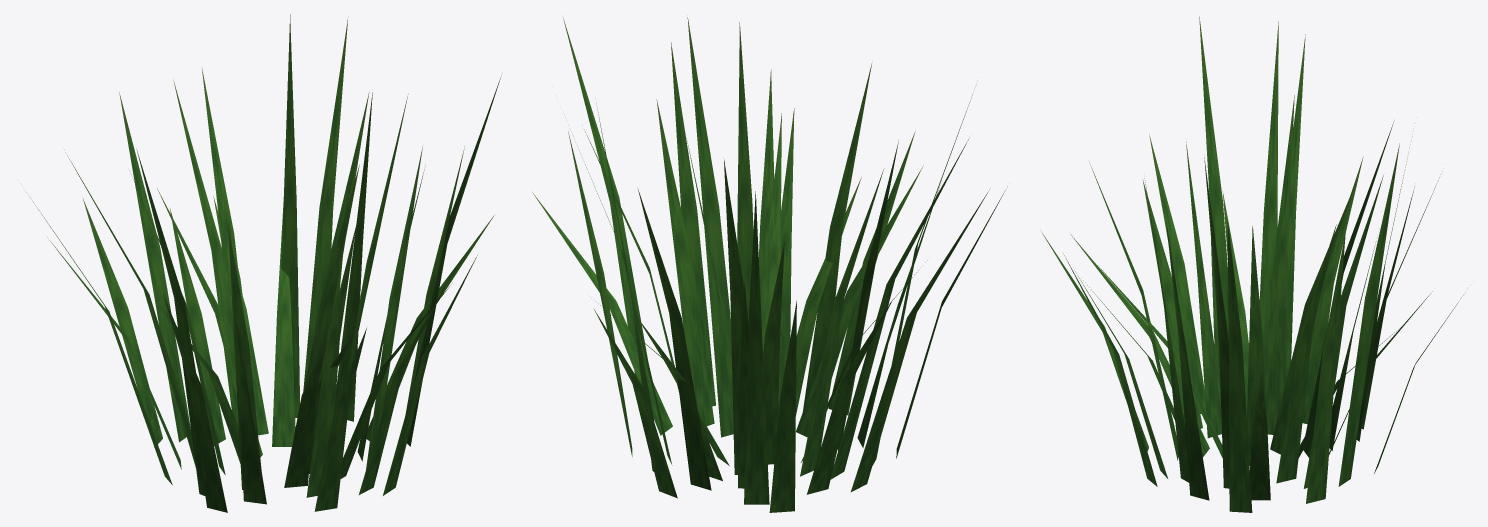
Rendered from grass_clump_01_lod1.glb.
The picture shows the model from 3 angles, left to right: view 1: azimuth 30°, elevation 25°; view 2: azimuth 150°, elevation 25°; view 3: azimuth 270°, elevation 25°; orthographic projection. The views are drawn at different scales.
Visible parts, largest first — view 1: Grass_Clump_01.001; view 2: Grass_Clump_01.001; view 3: Grass_Clump_01.001.
Part boxes in pixels (<box>): Grass_Clump_01.001: <box>26,14,501,512</box>; Grass_Clump_01.001: <box>532,17,1007,512</box>; Grass_Clump_01.001: <box>1041,16,1463,512</box>.
Bounding box in the file's own units: 0.7004 × 0.5579 × 0.6061.
Materials: 1 (1 with a texture image).
